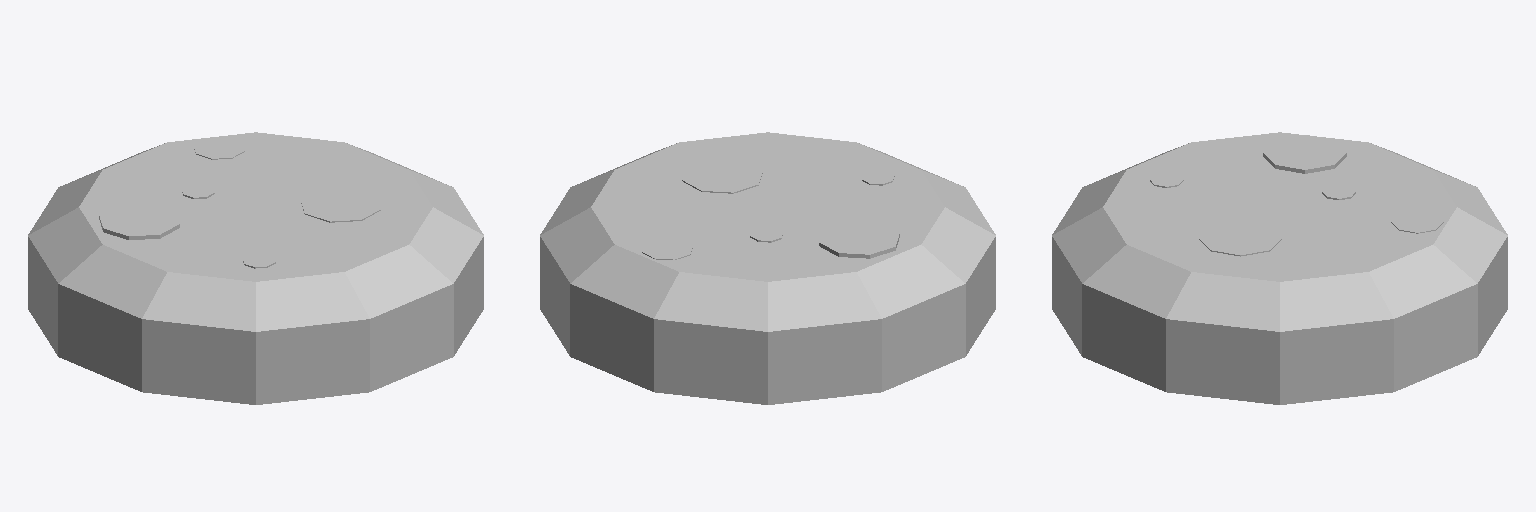
Rendered from Cookies.obj.
3 renders of one model, left to right at view 1: azimuth 30°, elevation 25°; view 2: azimuth 150°, elevation 25°; view 3: azimuth 270°, elevation 25°, orthographic.
Visible parts, largest first — view 1: Cookie; view 2: Cookie; view 3: Cookie.
Part boxes in pixels (x1,y1,x2,y2): Cookie: (28, 132, 483, 404); Cookie: (540, 132, 995, 404); Cookie: (1052, 132, 1507, 404).
Size of the model in its own units: 3.42 by 0.8726 by 3.42.